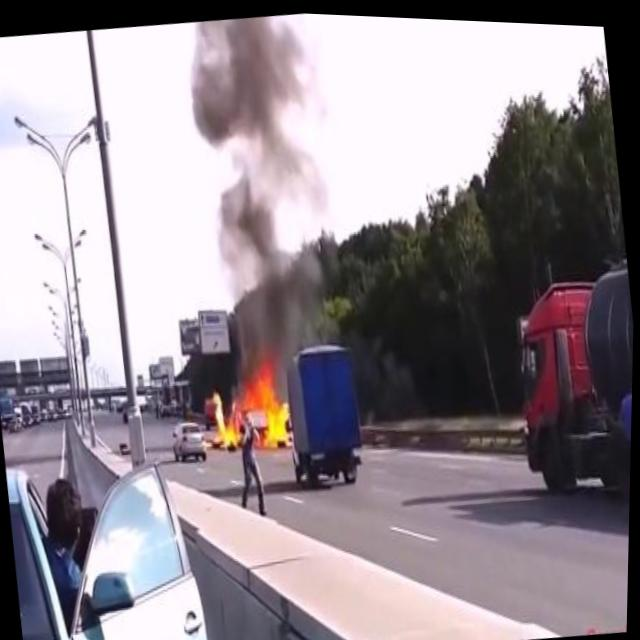fire: (208, 360, 295, 450)
